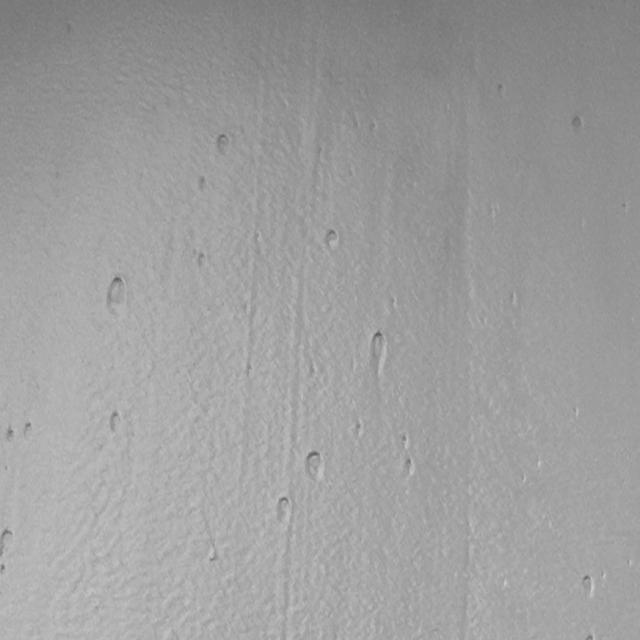pin holes: (105, 274, 133, 320), (366, 332, 390, 371), (303, 449, 327, 484), (274, 495, 294, 525), (106, 409, 128, 436), (579, 571, 598, 600), (212, 132, 233, 158), (0, 529, 18, 559), (321, 228, 341, 253), (567, 115, 587, 140), (505, 287, 523, 312), (252, 230, 269, 256), (402, 458, 417, 481), (4, 426, 20, 446), (194, 252, 210, 272), (306, 358, 320, 380), (496, 82, 512, 101), (22, 420, 37, 440), (570, 405, 585, 422), (196, 176, 209, 195), (367, 119, 380, 138), (351, 421, 364, 438), (400, 433, 412, 451), (62, 21, 75, 37), (619, 199, 631, 215), (244, 362, 254, 379), (518, 474, 530, 488), (624, 555, 635, 570), (0, 564, 9, 580), (389, 294, 398, 310), (584, 630, 598, 640), (536, 456, 543, 470), (602, 569, 606, 583)
